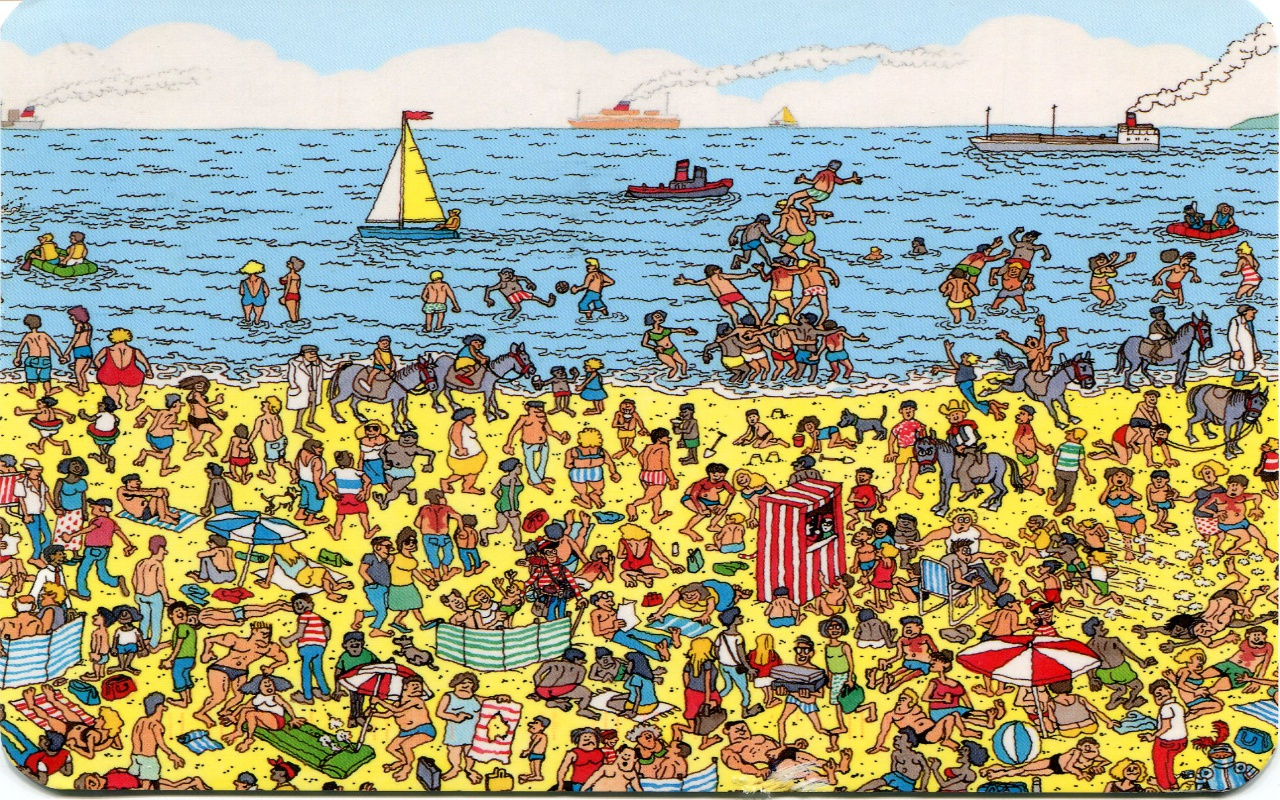waldo: (529, 537, 571, 621)
